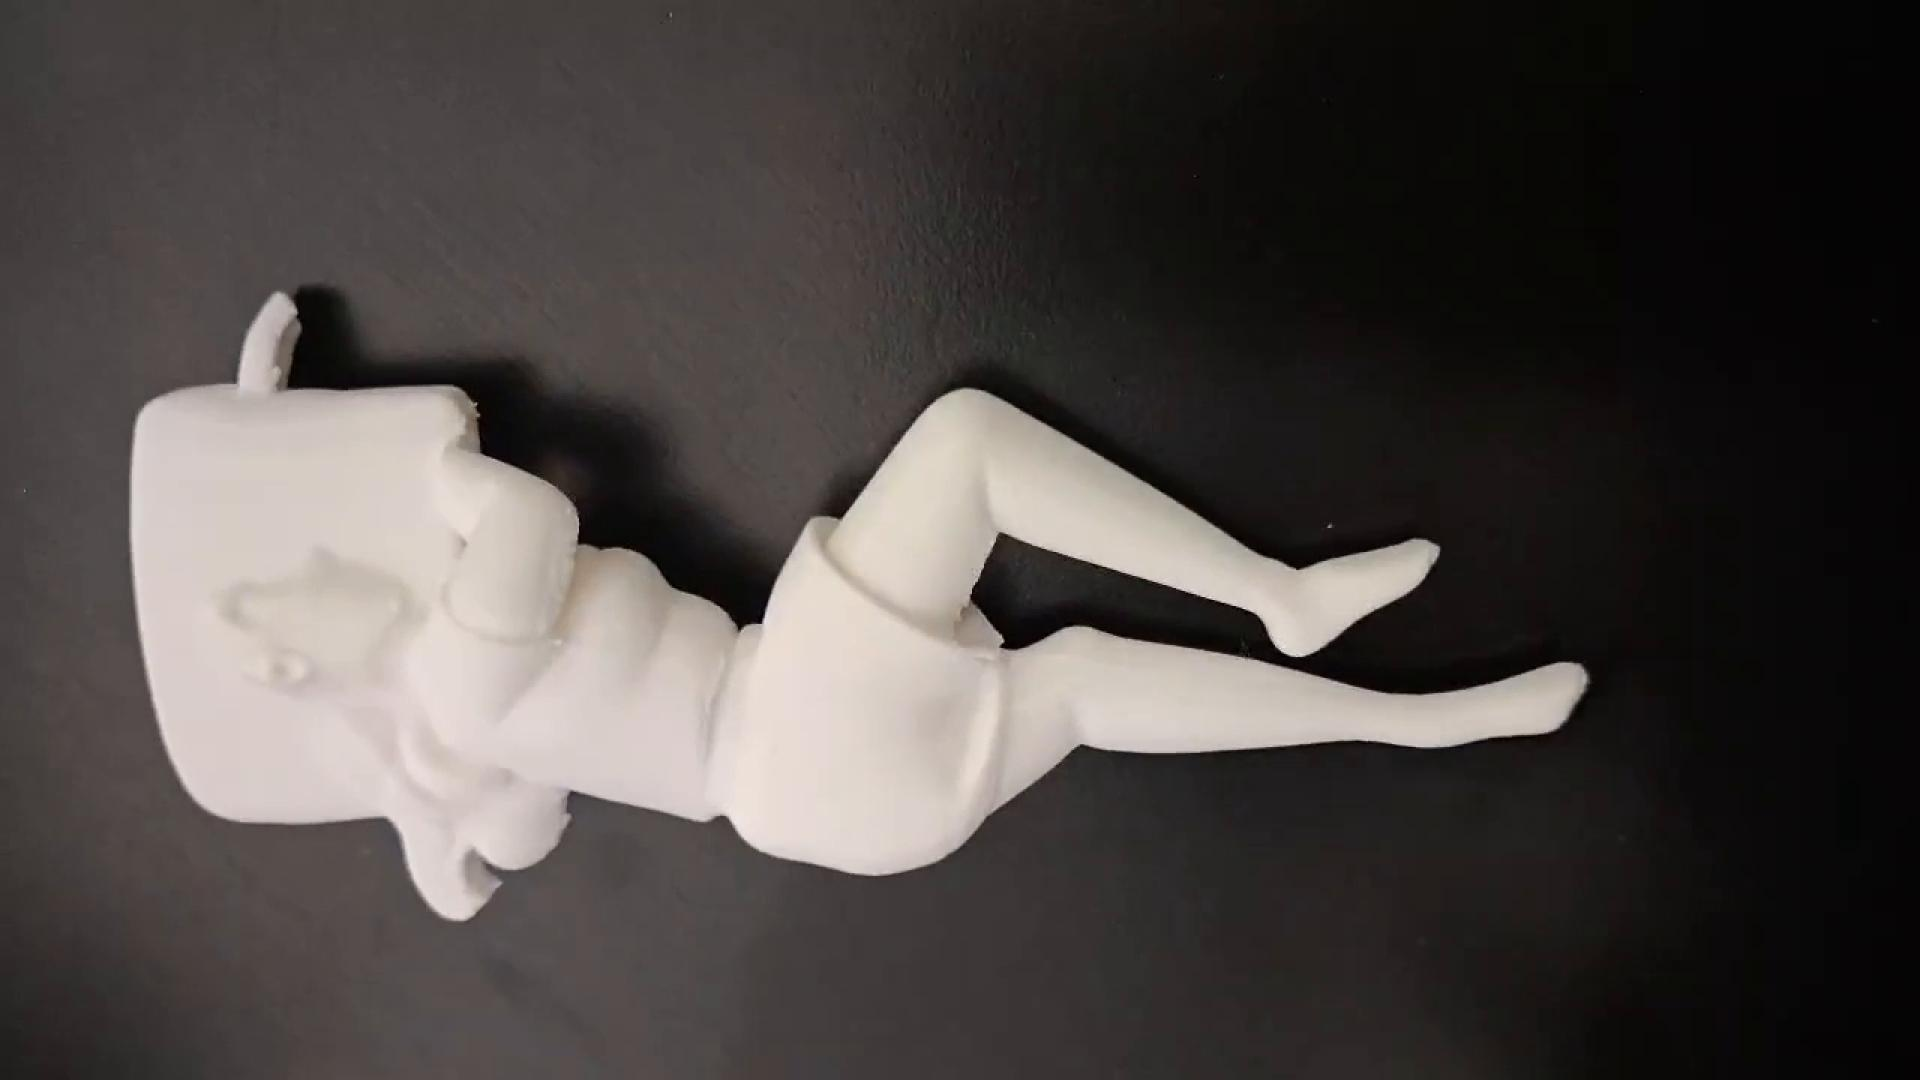Good-style: (120, 291, 1578, 931)
